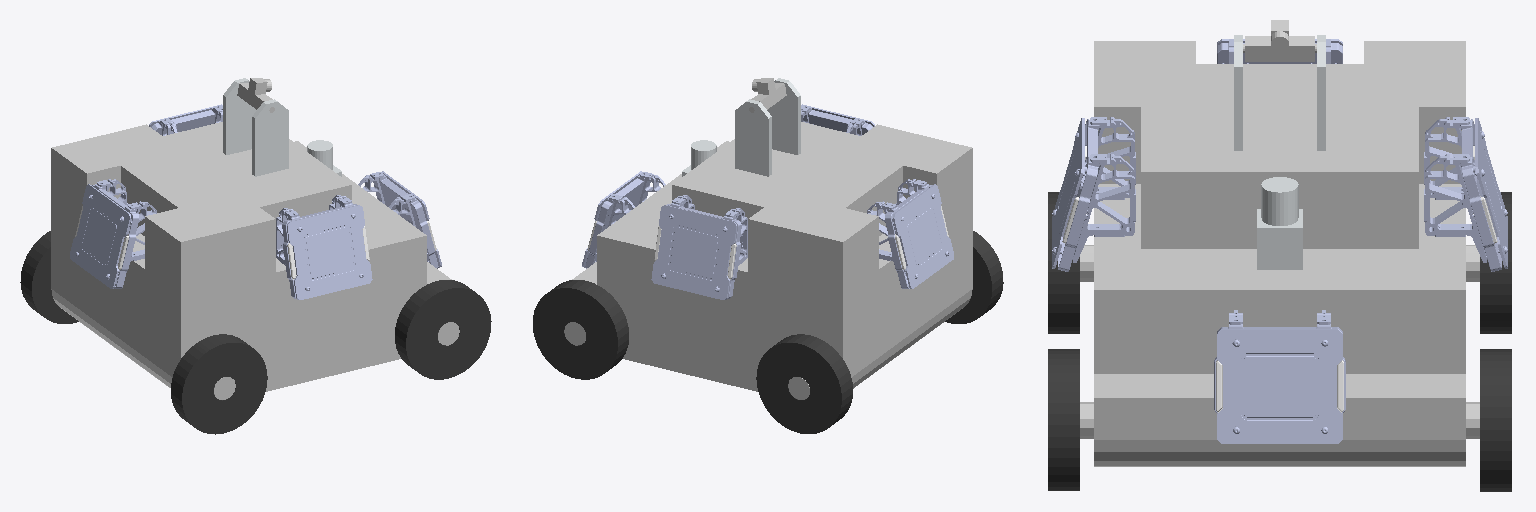
--- Render facts (derived) ---
3 views of the same robot in one strip: view 1: azimuth 30°, elevation 25°; view 2: azimuth 150°, elevation 25°; view 3: azimuth 270°, elevation 25° (orthographic).
Model small_car with 21 links and 20 joints (20 fixed), rooted at base_link, posed all joints at 0.
Links seen in each view (by area): view 1: base_link, armor2_link, wheel3_link, wheel2_link, armor1_link, gimble_frame_link, wheel4_link, armor4_link, armor3_link, camera_Link, lidar_Link; view 2: base_link, armor3_link, wheel4_link, wheel1_link, armor1_link, gimble_frame_link, wheel3_link, armor4_link, armor2_link, camera_Link, lidar_Link; view 3: base_link, armor4_link, armor3_link, armor2_link, wheel1_link, wheel2_link, lidar_Link, wheel3_link, wheel4_link, camera_Link, gimble_frame_link, armor1_link.
Link boxes in pixels (x1,y1,x2,y2): base_link: (51,122,459,399); armor2_link: (276,195,372,299); wheel3_link: (171,334,267,434); wheel2_link: (395,280,491,379); armor1_link: (70,179,156,288); gimble_frame_link: (223,78,288,176); wheel4_link: (20,231,78,323); armor4_link: (358,171,441,268); armor3_link: (149,104,222,135); camera_Link: (237,78,274,112); lidar_Link: (307,140,341,176); base_link: (564,122,972,399); armor3_link: (651,195,747,299); wheel4_link: (756,334,852,433); wheel1_link: (533,280,628,379); armor1_link: (867,179,953,288); gimble_frame_link: (735,78,800,176); wheel3_link: (945,231,1003,323); armor4_link: (582,171,665,268); armor2_link: (801,104,874,135); camera_Link: (749,78,786,112); lidar_Link: (682,140,716,176); base_link: (1080,41,1479,466); armor4_link: (1214,310,1345,443); armor3_link: (1424,117,1507,271); armor2_link: (1052,117,1135,271); wheel1_link: (1480,349,1511,491); wheel2_link: (1048,349,1079,490); lidar_Link: (1257,177,1302,269); wheel3_link: (1048,192,1079,333); wheel4_link: (1480,192,1511,333); camera_Link: (1243,20,1316,61); gimble_frame_link: (1234,35,1325,150); armor1_link: (1217,39,1342,63).
Size in the robot's own frame: 0.5907 by 0.5 by 0.4558 metres.
Meshes: 21 distinct files referenced, 21 mesh visuals loaded (21 binary STL).

robot.urdf — small_car:
<robot
  name="small_car">
  <link
    name="base_link">
    <inertial>
      <origin
        xyz="-0.0141093007890566 -0.00252362802672281 -1.02707801948561E-17"
        rpy="0 0 0" />
      <mass
        value="91.3099819233603" />
      <inertia
        ixx="1.53893310122709"
        ixy="0.0676672404593872"
        ixz="-9.82600213270218E-17"
        iyy="2.9351944546979"
        iyz="6.28154629986737E-19"
        izz="1.99320178818682" />
    </inertial>
    <visual>
      <origin
        xyz="0 0 0"
        rpy="0 0 0" />
      <geometry>
        <mesh
          filename="package://small_car/meshes/base_link.STL" />
      </geometry>
      <material
        name="">
        <color
          rgba="0.847058823529412 0.847058823529412 0.847058823529412 1" />
      </material>
    </visual>
    <collision>
      <origin
        xyz="0 0 0"
        rpy="0 0 0" />
      <geometry>
        <mesh
          filename="package://small_car/meshes/base_link.STL" />
      </geometry>
    </collision>
  </link>
  <link
    name="armor4_link">
    <inertial>
      <origin
        xyz="-0.0401589264976322 -0.00708527107653623 0.132900143381206"
        rpy="0 0 0" />
      <mass
        value="0.147972658641805" />
      <inertia
        ixx="0.000456034431800639"
        ixy="5.11949835899828E-05"
        ixz="2.00582248777474E-08"
        iyy="0.000352852795644135"
        iyz="5.52975258032599E-08"
        izz="0.00026091921046" />
    </inertial>
    <visual>
      <origin
        xyz="0 0 0"
        rpy="0 0 0" />
      <geometry>
        <mesh
          filename="package://small_car/meshes/armor4_link.STL" />
      </geometry>
      <material
        name="">
        <color
          rgba="0.792156862745098 0.819607843137255 0.933333333333333 1" />
      </material>
    </visual>
    <collision>
      <origin
        xyz="0 0 0"
        rpy="0 0 0" />
      <geometry>
        <mesh
          filename="package://small_car/meshes/armor4_link.STL" />
      </geometry>
    </collision>
  </link>
  <joint
    name="armor4_joint"
    type="fixed">
    <origin
      xyz="0.29817 0.1329 0.03448"
      rpy="1.5708 0 0" />
    <parent
      link="base_link" />
    <child
      link="armor4_link" />
    <axis
      xyz="0 0 0" />
  </joint>
  <link
    name="led6_link">
    <inertial>
      <origin
        xyz="0.271524523996658 -0.0977320406177388 -0.276286491896856"
        rpy="0 0 0" />
      <mass
        value="0.0037565493089812" />
      <inertia
        ixx="1.17546875060039E-06"
        ixy="2.87877950970006E-07"
        ixz="1.93853028539349E-08"
        iyy="1.78229620731671E-07"
        iyz="5.19426124637486E-09"
        izz="1.26194903358949E-06" />
    </inertial>
    <visual>
      <origin
        xyz="0 0 0"
        rpy="0 0 0" />
      <geometry>
        <mesh
          filename="package://small_car/meshes/led6_link.STL" />
      </geometry>
      <material
        name="">
        <color
          rgba="1 1 1 1" />
      </material>
    </visual>
    <collision>
      <origin
        xyz="0 0 0"
        rpy="0 0 0" />
      <geometry>
        <mesh
          filename="package://small_car/meshes/led6_link.STL" />
      </geometry>
    </collision>
  </link>
  <joint
    name="led6_joint"
    type="fixed">
    <origin
      xyz="-0.29817 0.087834 0.34596"
      rpy="0 0 0" />
    <parent
      link="armor4_link" />
    <child
      link="led6_link" />
    <axis
      xyz="0 0 0" />
  </joint>
  <link
    name="led7_link">
    <inertial>
      <origin
        xyz="0.00846410135599102 0.00226794095620233 0.0632260655118929"
        rpy="0 0 0" />
      <mass
        value="0.00375654834326113" />
      <inertia
        ixx="1.17546825436812E-06"
        ixy="2.8787811632163E-07"
        ixz="-1.93852829919951E-08"
        iyy="1.78229719152718E-07"
        iyz="-5.19432587203597E-09"
        izz="1.26194863617826E-06" />
    </inertial>
    <visual>
      <origin
        xyz="0 0 0"
        rpy="0 0 0" />
      <geometry>
        <mesh
          filename="package://small_car/meshes/led7_link.STL" />
      </geometry>
      <material
        name="">
        <color
          rgba="1 1 1 1" />
      </material>
    </visual>
    <collision>
      <origin
        xyz="0 0 0"
        rpy="0 0 0" />
      <geometry>
        <mesh
          filename="package://small_car/meshes/led7_link.STL" />
      </geometry>
    </collision>
  </link>
  <joint
    name="led7_joint"
    type="fixed">
    <origin
      xyz="-0.035115 -0.012166 0.1329"
      rpy="0 0 0" />
    <parent
      link="armor4_link" />
    <child
      link="led7_link" />
    <axis
      xyz="0 0 0" />
  </joint>
  <link
    name="armor2_link">
    <inertial>
      <origin
        xyz="-0.13290014341086 -0.00708527109903054 -0.0401589264863958"
        rpy="0 0 0" />
      <mass
        value="0.147972658732963" />
      <inertia
        ixx="0.000260919210619361"
        ixy="-5.52976961465778E-08"
        ixz="-2.00581421264041E-08"
        iyy="0.000352852795899702"
        iyz="5.11949836527124E-05"
        izz="0.000456034432153879" />
    </inertial>
    <visual>
      <origin
        xyz="0 0 0"
        rpy="0 0 0" />
      <geometry>
        <mesh
          filename="package://small_car/meshes/armor2_link.STL" />
      </geometry>
      <material
        name="">
        <color
          rgba="0.792156862745098 0.819607843137255 0.933333333333333 1" />
      </material>
    </visual>
    <collision>
      <origin
        xyz="0 0 0"
        rpy="0 0 0" />
      <geometry>
        <mesh
          filename="package://small_car/meshes/armor2_link.STL" />
      </geometry>
    </collision>
  </link>
  <joint
    name="armor2_joint"
    type="fixed">
    <origin
      xyz="0.1329 -0.24817 0.13448"
      rpy="1.5708 0 0" />
    <parent
      link="base_link" />
    <child
      link="armor2_link" />
    <axis
      xyz="0 0 0" />
  </joint>
  <link
    name="led3_link">
    <inertial>
      <origin
        xyz="-0.199834360781746 0.102267956211596 0.221524523593012"
        rpy="0 0 0" />
      <mass
        value="0.00375654838870359" />
      <inertia
        ixx="1.26194864299701E-06"
        ixy="-5.19422380218442E-09"
        ixz="-1.93853100677096E-08"
        iyy="1.78229592216683E-07"
        iyz="2.87877896069799E-07"
        izz="1.175468388034E-06" />
    </inertial>
    <visual>
      <origin
        xyz="0 0 0"
        rpy="0 0 0" />
      <geometry>
        <mesh
          filename="package://small_car/meshes/led3_link.STL" />
      </geometry>
      <material
        name="">
        <color
          rgba="1 1 1 1" />
      </material>
    </visual>
    <collision>
      <origin
        xyz="0 0 0"
        rpy="0 0 0" />
      <geometry>
        <mesh
          filename="package://small_car/meshes/led3_link.STL" />
      </geometry>
    </collision>
  </link>
  <joint
    name="led3_joint"
    type="fixed">
    <origin
      xyz="0.13016 -0.11217 -0.24817"
      rpy="0 0 0" />
    <parent
      link="armor2_link" />
    <child
      link="led3_link" />
    <axis
      xyz="0 0 0" />
  </joint>
  <link
    name="led4_link">
    <inertial>
      <origin
        xyz="-0.0632260656259004 0.00226793849224093 0.43458495581935"
        rpy="0 0 0" />
      <mass
        value="0.0037565492560915" />
      <inertia
        ixx="1.26194902597014E-06"
        ixy="5.19429025277018E-09"
        ixz="1.938529521109E-08"
        iyy="1.78229782230221E-07"
        iyz="2.87878231315116E-07"
        izz="1.17546858147122E-06" />
    </inertial>
    <visual>
      <origin
        xyz="0 0 0"
        rpy="0 0 0" />
      <geometry>
        <mesh
          filename="package://small_car/meshes/led4_link.STL" />
      </geometry>
      <material
        name="">
        <color
          rgba="1 1 1 1" />
      </material>
    </visual>
    <collision>
      <origin
        xyz="0 0 0"
        rpy="0 0 0" />
      <geometry>
        <mesh
          filename="package://small_car/meshes/led4_link.STL" />
      </geometry>
    </collision>
  </link>
  <joint
    name="led4_joint"
    type="fixed">
    <origin
      xyz="-0.132897193972804 -0.0121655712822631 -0.461235378497273"
      rpy="0 0 0" />
    <parent
      link="armor2_link" />
    <child
      link="led4_link" />
    <axis
      xyz="0 0 0" />
  </joint>
  <link
    name="armor1_link">
    <inertial>
      <origin
        xyz="0.040158926490482 -0.00708527109095713 -0.132900143400004"
        rpy="0 0 0" />
      <mass
        value="0.147972658700033" />
      <inertia
        ixx="0.00045603443202478"
        ixy="-5.11949836300382E-05"
        ixz="2.00581726134441E-08"
        iyy="0.000352852795805126"
        iyz="-5.52976341563103E-08"
        izz="0.000260919210562265" />
    </inertial>
    <visual>
      <origin
        xyz="0 0 0"
        rpy="0 0 0" />
      <geometry>
        <mesh
          filename="package://small_car/meshes/armor1_link.STL" />
      </geometry>
      <material
        name="">
        <color
          rgba="0.792156862745098 0.819607843137255 0.933333333333333 1" />
      </material>
    </visual>
    <collision>
      <origin
        xyz="0 0 0"
        rpy="0 0 0" />
      <geometry>
        <mesh
          filename="package://small_car/meshes/armor1_link.STL" />
      </geometry>
    </collision>
  </link>
  <joint
    name="armor1_joint"
    type="fixed">
    <origin
      xyz="-0.29817495221909 -0.132897193972804 0.134479829686757"
      rpy="1.5707963267949 0 0" />
    <parent
      link="base_link" />
    <child
      link="armor1_link" />
    <axis
      xyz="0 0 0" />
  </joint>
  <link
    name="led8_link">
    <inertial>
      <origin
        xyz="-0.00846409731482828 0.00226795621159602 0.0632260654964373"
        rpy="0 0 0" />
      <mass
        value="0.00375654838870359" />
      <inertia
        ixx="1.175468388034E-06"
        ixy="-2.878778960698E-07"
        ixz="1.93853100677091E-08"
        iyy="1.78229592216684E-07"
        iyz="-5.19422380218629E-09"
        izz="1.26194864299701E-06" />
    </inertial>
    <visual>
      <origin
        xyz="0 0 0"
        rpy="0 0 0" />
      <geometry>
        <mesh
          filename="package://small_car/meshes/led8_link.STL" />
      </geometry>
      <material
        name="">
        <color
          rgba="1 1 1 1" />
      </material>
    </visual>
    <collision>
      <origin
        xyz="0 0 0"
        rpy="0 0 0" />
      <geometry>
        <mesh
          filename="package://small_car/meshes/led8_link.STL" />
      </geometry>
    </collision>
  </link>
  <joint
    name="led8_joint"
    type="fixed">
    <origin
      xyz="0.0351145259409062 -0.0121655712822634 -0.132897193972804"
      rpy="0 0 0" />
    <parent
      link="armor1_link" />
    <child
      link="led8_link" />
    <axis
      xyz="0 0 0" />
  </joint>
  <link
    name="led5_link">
    <inertial>
      <origin
        xyz="-0.271524529541165 0.00226793849224059 -0.276286491904085"
        rpy="0 0 0" />
      <mass
        value="0.00375654925609149" />
      <inertia
        ixx="1.17546858147122E-06"
        ixy="-2.87878231315116E-07"
        ixz="-1.93852952110895E-08"
        iyy="1.78229782230222E-07"
        iyz="5.19429025277195E-09"
        izz="1.26194902597014E-06" />
    </inertial>
    <visual>
      <origin
        xyz="0 0 0"
        rpy="0 0 0" />
      <geometry>
        <mesh
          filename="package://small_car/meshes/led5_link.STL" />
      </geometry>
      <material
        name="">
        <color
          rgba="1 1 1 1" />
      </material>
    </visual>
    <collision>
      <origin
        xyz="0 0 0"
        rpy="0 0 0" />
      <geometry>
        <mesh
          filename="package://small_car/meshes/led5_link.STL" />
      </geometry>
    </collision>
  </link>
  <joint
    name="led5_joint"
    type="fixed">
    <origin
      xyz="0.29817495221909 -0.0121655712822631 0.0801632323053796"
      rpy="0 0 0" />
    <parent
      link="armor1_link" />
    <child
      link="led5_link" />
    <axis
      xyz="0 0 0" />
  </joint>
  <link
    name="armor3_link">
    <inertial>
      <origin
        xyz="0.132900143410293 -0.00708527109855803 0.040158926486587"
        rpy="0 0 0" />
      <mass
        value="0.14797265873123" />
      <inertia
        ixx="0.000260919210615943"
        ixy="5.52976925526035E-08"
        ixz="-2.00581435411989E-08"
        iyy="0.00035285279589494"
        iyz="-5.1194983651526E-05"
        izz="0.000456034432146617" />
    </inertial>
    <visual>
      <origin
        xyz="0 0 0"
        rpy="0 0 0" />
      <geometry>
        <mesh
          filename="package://small_car/meshes/armor3_link.STL" />
      </geometry>
      <material
        name="">
        <color
          rgba="0.792156862745098 0.819607843137255 0.933333333333333 1" />
      </material>
    </visual>
    <collision>
      <origin
        xyz="0 0 0"
        rpy="0 0 0" />
      <geometry>
        <mesh
          filename="package://small_car/meshes/armor3_link.STL" />
      </geometry>
    </collision>
  </link>
  <joint
    name="armor3_joint"
    type="fixed">
    <origin
      xyz="-0.132897193972804 0.24817495221909 0.134479829686757"
      rpy="1.5707963267949 0 0" />
    <parent
      link="base_link" />
    <child
      link="armor3_link" />
    <axis
      xyz="0 0 0" />
  </joint>
  <link
    name="led2_link">
    <inertial>
      <origin
        xyz="0.199834360781746 0.00226795621159621 -0.221524523593012"
        rpy="0 0 0" />
      <mass
        value="0.00375654838870359" />
      <inertia
        ixx="1.26194864299701E-06"
        ixy="5.19422380218442E-09"
        ixz="-1.93853100677096E-08"
        iyy="1.78229592216683E-07"
        iyz="-2.87877896069799E-07"
        izz="1.175468388034E-06" />
    </inertial>
    <visual>
      <origin
        xyz="0 0 0"
        rpy="0 0 0" />
      <geometry>
        <mesh
          filename="package://small_car/meshes/led2_link.STL" />
      </geometry>
      <material
        name="">
        <color
          rgba="1 1 1 1" />
      </material>
    </visual>
    <collision>
      <origin
        xyz="0 0 0"
        rpy="0 0 0" />
      <geometry>
        <mesh
          filename="package://small_car/meshes/led2_link.STL" />
      </geometry>
    </collision>
  </link>
  <joint
    name="led2_joint"
    type="fixed">
    <origin
      xyz="-0.130163232305379 -0.0121655712822633 0.24817495221909"
      rpy="0 0 0" />
    <parent
      link="armor3_link" />
    <child
      link="led2_link" />
    <axis
      xyz="0 0 0" />
  </joint>
  <link
    name="led1_link">
    <inertial>
      <origin
        xyz="0.0632260656259004 0.00226793849224081 -0.00846410326298186"
        rpy="0 0 0" />
      <mass
        value="0.00375654925609148" />
      <inertia
        ixx="1.26194902597014E-06"
        ixy="-5.19429025276988E-09"
        ixz="1.938529521109E-08"
        iyy="1.78229782230222E-07"
        iyz="-2.87878231315115E-07"
        izz="1.17546858147122E-06" />
    </inertial>
    <visual>
      <origin
        xyz="0 0 0"
        rpy="0 0 0" />
      <geometry>
        <mesh
          filename="package://small_car/meshes/led1_link.STL" />
      </geometry>
      <material
        name="">
        <color
          rgba="1 1 1 1" />
      </material>
    </visual>
    <collision>
      <origin
        xyz="0 0 0"
        rpy="0 0 0" />
      <geometry>
        <mesh
          filename="package://small_car/meshes/led1_link.STL" />
      </geometry>
    </collision>
  </link>
  <joint
    name="led1_joint"
    type="fixed">
    <origin
      xyz="0.132897193972804 -0.0121655712822632 0.0351145259409066"
      rpy="0 0 0" />
    <parent
      link="armor3_link" />
    <child
      link="led1_link" />
    <axis
      xyz="0 0 0" />
  </joint>
  <link
    name="wheel1_link">
    <inertial>
      <origin
        xyz="0 0 0"
        rpy="0 0 0" />
      <mass
        value="0.694947585989445" />
      <inertia
        ixx="0.00217249302225125"
        ixy="1.27171479163018E-19"
        ixz="-5.70249879464901E-20"
        iyy="0.00115718907719538"
        iyz="-4.80686803583404E-20"
        izz="0.00115718907719538" />
    </inertial>
    <visual>
      <origin
        xyz="0 0 0"
        rpy="0 0 0" />
      <geometry>
        <mesh
          filename="package://small_car/meshes/wheel1_link.STL" />
      </geometry>
      <material
        name="">
        <color
          rgba="0.298039215686275 0.298039215686275 0.298039215686275 1" />
      </material>
    </visual>
    <collision>
      <origin
        xyz="0 0 0"
        rpy="0 0 0" />
      <geometry>
        <mesh
          filename="package://small_car/meshes/wheel1_link.STL" />
      </geometry>
    </collision>
  </link>
  <joint
    name="wheel1_joint"
    type="fixed">
    <origin
      xyz="0.2 0.2325 -0.05"
      rpy="-3.7007E-16 -6.123E-17 -1.5708" />
    <parent
      link="base_link" />
    <child
      link="wheel1_link" />
    <axis
      xyz="1 0 0" />
    <limit
      lower="-180"
      upper="180"
      effort="0"
      velocity="0" />
  </joint>
  <link
    name="wheel2_link">
    <inertial>
      <origin
        xyz="0 0 0"
        rpy="0 0 0" />
      <mass
        value="0.694947585989443" />
      <inertia
        ixx="0.00217249302225125"
        ixy="4.42817567008229E-20"
        ixz="-2.91303603856686E-20"
        iyy="0.00115718907719538"
        iyz="8.81723658065134E-20"
        izz="0.00115718907719538" />
    </inertial>
    <visual>
      <origin
        xyz="0 0 0"
        rpy="0 0 0" />
      <geometry>
        <mesh
          filename="package://small_car/meshes/wheel2_link.STL" />
      </geometry>
      <material
        name="">
        <color
          rgba="0.298039215686275 0.298039215686275 0.298039215686275 1" />
      </material>
    </visual>
    <collision>
      <origin
        xyz="0 0 0"
        rpy="0 0 0" />
      <geometry>
        <mesh
          filename="package://small_car/meshes/wheel2_link.STL" />
      </geometry>
    </collision>
  </link>
  <joint
    name="wheel2_joint"
    type="fixed">
    <origin
      xyz="0.2 -0.2325 -0.05"
      rpy="-3.7007E-16 -6.123E-17 -1.5708" />
    <parent
      link="base_link" />
    <child
      link="wheel2_link" />
    <axis
      xyz="1 0 0" />
    <limit
      lower="-180"
      upper="180"
      effort="0"
      velocity="0" />
  </joint>
  <link
    name="wheel3_link">
    <inertial>
      <origin
        xyz="2.77555756156289E-17 2.77555756156289E-17 0"
        rpy="0 0 0" />
      <mass
        value="0.694947585989443" />
      <inertia
        ixx="0.00217249302225125"
        ixy="1.84979619598937E-19"
        ixz="-5.06607676113409E-20"
        iyy="0.00115718907719538"
        iyz="2.33963734921441E-21"
        izz="0.00115718907719538" />
    </inertial>
    <visual>
      <origin
        xyz="0 0 0"
        rpy="0 0 0" />
      <geometry>
        <mesh
          filename="package://small_car/meshes/wheel3_link.STL" />
      </geometry>
      <material
        name="">
        <color
          rgba="0.298039215686275 0.298039215686275 0.298039215686275 1" />
      </material>
    </visual>
    <collision>
      <origin
        xyz="0 0 0"
        rpy="0 0 0" />
      <geometry>
        <mesh
          filename="package://small_car/meshes/wheel3_link.STL" />
      </geometry>
    </collision>
  </link>
  <joint
    name="wheel3_joint"
    type="fixed">
    <origin
      xyz="-0.2 -0.2325 -0.05"
      rpy="-3.7007E-16 -6.123E-17 -1.5708" />
    <parent
      link="base_link" />
    <child
      link="wheel3_link" />
    <axis
      xyz="1 0 0" />
    <limit
      lower="-180"
      upper="180"
      effort="0"
      velocity="0" />
  </joint>
  <link
    name="wheel4_link">
    <inertial>
      <origin
        xyz="0 0 6.93889390390723E-18"
        rpy="0 0 0" />
      <mass
        value="0.694947585989444" />
      <inertia
        ixx="0.00217249302225125"
        ixy="3.72982644069231E-19"
        ixz="-2.22690565326909E-19"
        iyy="0.00115718907719538"
        iyz="1.46208156970576E-20"
        izz="0.00115718907719538" />
    </inertial>
    <visual>
      <origin
        xyz="0 0 0"
        rpy="0 0 0" />
      <geometry>
        <mesh
          filename="package://small_car/meshes/wheel4_link.STL" />
      </geometry>
      <material
        name="">
        <color
          rgba="0.298039215686275 0.298039215686275 0.298039215686275 1" />
      </material>
    </visual>
    <collision>
      <origin
        xyz="0 0 0"
        rpy="0 0 0" />
      <geometry>
        <mesh
          filename="package://small_car/meshes/wheel4_link.STL" />
      </geometry>
    </collision>
  </link>
  <joint
    name="wheel4_joint"
    type="fixed">
    <origin
      xyz="-0.2 0.2325 -0.05"
      rpy="-3.7007E-16 -6.123E-17 -1.5708" />
    <parent
      link="base_link" />
    <child
      link="wheel4_link" />
    <axis
      xyz="1 0 0" />
    <limit
      lower="-180"
      upper="180"
      effort="0"
      velocity="0" />
  </joint>
  <link
    name="motor_link">
    <inertial>
      <origin
        xyz="1.23323882393276E-19 7.76753479803778E-18 0.0246272342427093"
        rpy="0 0 0" />
      <mass
        value="0.375695211461169" />
      <inertia
        ixx="0.000159655812251878"
        ixy="6.01853107621011E-36"
        ixz="7.53204729482008E-21"
        iyy="0.000159655812251878"
        iyz="2.29065547945884E-21"
        izz="0.00016691841364714" />
    </inertial>
    <visual>
      <origin
        xyz="0 0 0"
        rpy="0 0 0" />
      <geometry>
        <mesh
          filename="package://small_car/meshes/motor_link.STL" />
      </geometry>
      <material
        name="">
        <color
          rgba="0.898039215686275 0.917647058823529 0.929411764705882 1" />
      </material>
    </visual>
    <collision>
      <origin
        xyz="0 0 0"
        rpy="0 0 0" />
      <geometry>
        <mesh
          filename="package://small_car/meshes/motor_link.STL" />
      </geometry>
    </collision>
  </link>
  <joint
    name="motor_joint"
    type="fixed">
    <origin
      xyz="0 0 0.1"
      rpy="3.154E-16 -6.123E-17 -1.5708" />
    <parent
      link="base_link" />
    <child
      link="motor_link" />
    <axis
      xyz="0 0 0" />
  </joint>
  <link
    name="gimble_frame_link">
    <inertial>
      <origin
        xyz="6.05738292168799E-17 -5.36559946595369E-17 0.061803081294958"
        rpy="0 0 0" />
      <mass
        value="0.617387556075014" />
      <inertia
        ixx="0.00165047630839583"
        ixy="3.32379198585652E-19"
        ixz="5.45493127960058E-19"
        iyy="0.00253899914374973"
        iyz="9.93789657321647E-19"
        izz="0.00125265562833856" />
    </inertial>
    <visual>
      <origin
        xyz="0 0 0"
        rpy="0 0 0" />
      <geometry>
        <mesh
          filename="package://small_car/meshes/gimble_frame_link.STL" />
      </geometry>
      <material
        name="">
        <color
          rgba="0.898039215686275 0.917647058823529 0.929411764705882 1" />
      </material>
    </visual>
    <collision>
      <origin
        xyz="0 0 0"
        rpy="0 0 0" />
      <geometry>
        <mesh
          filename="package://small_car/meshes/gimble_frame_link.STL" />
      </geometry>
    </collision>
  </link>
  <joint
    name="gimble_frame_joint"
    type="fixed">
    <origin
      xyz="0 0 0.05"
      rpy="-5.14103862200133E-47 0 0" />
    <parent
      link="motor_link" />
    <child
      link="gimble_frame_link" />
    <axis
      xyz="0 0 0" />
  </joint>
  <link
    name="camera_Link">
    <inertial>
      <origin
        xyz="-0.0189148598793259 1.59059317292146E-18 -0.0148687643371785"
        rpy="0 0 0" />
      <mass
        value="0.105960777719614" />
      <inertia
        ixx="5.69329797174416E-05"
        ixy="-2.63679058326985E-21"
        ixz="-1.70964458963275E-06"
        iyy="1.62436615343554E-05"
        iyz="1.13224329576307E-20"
        izz="5.03208923690087E-05" />
    </inertial>
    <visual>
      <origin
        xyz="0 0 0"
        rpy="0 0 0" />
      <geometry>
        <mesh
          filename="package://small_car/meshes/camera_Link.STL" />
      </geometry>
      <material
        name="">
        <color
          rgba="0.847058823529412 0.847058823529412 0.847058823529412 1" />
      </material>
    </visual>
    <collision>
      <origin
        xyz="0 0 0"
        rpy="0 0 0" />
      <geometry>
        <mesh
          filename="package://small_car/meshes/camera_Link.STL" />
      </geometry>
    </collision>
  </link>
  <joint
    name="camera_joint"
    type="fixed">
    <origin
      xyz="0 0.0231691186135827 0.164223191506906"
      rpy="3.68123155973083E-16 0.174532925199433 1.5707963267949" />
    <parent
      link="gimble_frame_link" />
    <child
      link="camera_Link" />
    <axis
      xyz="0 0 0" />
  </joint>
  <link
    name="lidar_Link">
    <inertial>
      <origin
        xyz="1.38777878078145E-17 1.50906933276145E-18 0.0379058310790544"
        rpy="0 0 0" />
      <mass
        value="0.473216802635079" />
      <inertia
        ixx="0.000368299563461324"
        ixy="2.36388993723603E-20"
        ixz="-1.19708257895502E-20"
        iyy="0.000368299563461324"
        iyz="-8.58545747148338E-22"
        izz="0.000167768360527016" />
    </inertial>
    <visual>
      <origin
        xyz="0 0 0"
        rpy="0 0 0" />
      <geometry>
        <mesh
          filename="package://small_car/meshes/lidar_Link.STL" />
      </geometry>
      <material
        name="">
        <color
          rgba="0.898039215686275 0.917647058823529 0.929411764705882 1" />
      </material>
    </visual>
    <collision>
      <origin
        xyz="0 0 0"
        rpy="0 0 0" />
      <geometry>
        <mesh
          filename="package://small_car/meshes/lidar_Link.STL" />
      </geometry>
    </collision>
  </link>
  <joint
    name="lidar_joint"
    type="fixed">
    <origin
      xyz="0.115 0 0.1001"
      rpy="-9.41368496624362E-16 8.32667268468868E-16 4.71844785465691E-16" />
    <parent
      link="base_link" />
    <child
      link="lidar_Link" />
    <axis
      xyz="0 0 0" />
  </joint>
    <gazebo reference="base_link"> 
     <material>Gazebo/DarkGrey </material>
  </gazebo>
  <gazebo reference="camera_Link"> 
     <material>Gazebo/Black </material>
  </gazebo>
  <gazebo reference="wheel1_link"> 
     <material>Gazebo/Gray </material>
  </gazebo>
  <gazebo reference="wheel2_link"> 
     <material>Gazebo/Gray </material>
  </gazebo>
  <gazebo reference="wheel3_link"> 
     <material>Gazebo/Gray </material>
  </gazebo>
  <gazebo reference="wheel4_link"> 
     <material>Gazebo/Gray </material>
  </gazebo>
  <gazebo reference="armor1_link"> 
     <material>Gazebo/Gray </material>
  </gazebo>
  <gazebo reference="armor2_link"> 
     <material>Gazebo/Gray </material>
  </gazebo>
  <gazebo reference="armor3_link"> 
     <material>Gazebo/Gray </material>
  </gazebo>
  <gazebo reference="armor4_link"> 
     <material>Gazebo/Gray </material>
  </gazebo>
  <gazebo reference="lidar_Link"> 
     <material>Gazebo/Black </material>
  </gazebo>
  <gazebo reference="gimble_frame_link"> 
     <material>Gazebo/Gray </material>
  </gazebo>
  <gazebo reference="led1_link"> 
     <material>Gazebo/Red </material>
  </gazebo>
  <gazebo reference="led2_link"> 
     <material>Gazebo/Red </material>
  </gazebo>
  <gazebo reference="led3_link"> 
     <material>Gazebo/Red </material>
  </gazebo>
  <gazebo reference="led4_link"> 
     <material>Gazebo/Red </material>
  </gazebo>
  <gazebo reference="led5_link"> 
     <material>Gazebo/Red </material>
  </gazebo>
  <gazebo reference="led6_link"> 
     <material>Gazebo/Red </material>
  </gazebo>
  <gazebo reference="led7_link"> 
     <material>Gazebo/Red </material>
  </gazebo>
  <gazebo reference="led8_link"> 
     <material>Gazebo/Red </material>
  </gazebo>
  <gazebo reference="lidar_Link">
    <turnGravityOff>false</turnGravityOff>
    <sensor type="ray" name="head_hokuyo_sensor">
      <pose>2000 2000 2000 0 0 0</pose>
      <visualize>false</visualize>
      <update_rate>40</update_rate>
      <ray>
        <scan>
          <horizontal>
            <samples>240</samples>
            <resolution>1</resolution>
            <min_angle>-1.570796</min_angle>
            <max_angle>1.570796</max_angle>
          </horizontal>
        </scan>
        <range>
          <min>0.10</min>
          <max>10.0</max>
          <resolution>0.001</resolution>
        </range>
      </ray>
      <plugin name="gazebo_ros_head_hokuyo_controller" filename="libgazebo_ros_laser.so">
        <topicName>/scan</topicName>
        <frameName>lidar_Link</frameName>
      </plugin>
    </sensor>
  </gazebo>
  <gazebo reference="camera_Link">
    <sensor type="depth" name="camera1">
        <always_on>1</always_on>
        <visualize>true</visualize>             
        <camera>
            <horizontal_fov>1.047</horizontal_fov>  
            <image>
                <width>640</width>
                <height>480</height>
                <format>R8G8B8</format>
            </image>
            <depth_camera>

            </depth_camera>
            <clip>
                <near>0.1</near>
                <far>100</far>
            </clip>
        </camera>
             <plugin name="camera_controller" filename="libgazebo_ros_openni_kinect.so">
             <alwaysOn>true</alwaysOn>
                <updateRate>5</updateRate>
                <cameraName>kinect2</cameraName>
                <frameName>base_link</frameName>                   
                <imageTopicName>qhd/image_color_rect</imageTopicName>
                <depthImageTopicName>qhd/image_depth_rect</depthImageTopicName>
                <pointCloudTopicName>depth/points</pointCloudTopicName>
                <cameraInfoTopicName>qhd/camera_info</cameraInfoTopicName>              
                <depthImageCameraInfoTopicName>depth/camera_info</depthImageCameraInfoTopicName>            
                <pointCloudCutoff>0.4</pointCloudCutoff>                
                <hackBaseline>0.07</hackBaseline>
                <distortionK1>0.0</distortionK1>
                <distortionK2>0.0</distortionK2>
                <distortionK3>0.0</distortionK3>
                <distortionT1>0.0</distortionT1>
                <distortionT2>0.0</distortionT2>
            <CxPrime>0.0</CxPrime>
            <Cx>0.0</Cx>
            <Cy>0.0</Cy>
            <focalLength>0.0</focalLength>
            <hackBaseline>0</hackBaseline>
            </plugin>
    </sensor>
  </gazebo>
  <!-- position controller plugin-->
  <gazebo>
    <plugin name="mecanum_base_controller" filename="libgazebo_ros_planar_move.so">
      <commandTopic>cmd_vel</commandTopic>
      <odometryTopic>odom</odometryTopic>
      <odometryFrame>odom</odometryFrame>
      <odometryRate>100.0</odometryRate>
      <robotBaseFrame>base_link</robotBaseFrame>
      <broadcastTF>true</broadcastTF>
   </plugin>
 </gazebo>
<!-- ros_control plugin -->
  <gazebo>
    <plugin name="gazebo_ros_control" filename="libgazebo_ros_control.so">
      <robotNamespace>/small_car</robotNamespace>
      </plugin>
  </gazebo>
</robot>
